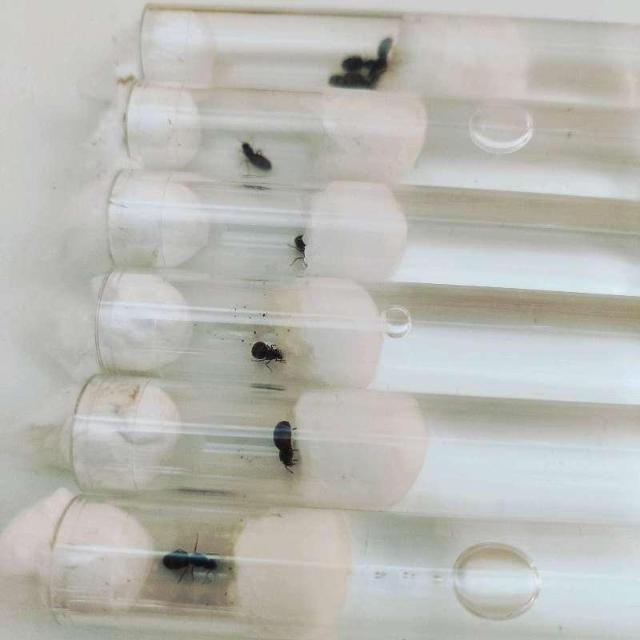Lasius: (240, 320, 290, 378), (162, 528, 220, 578), (235, 128, 283, 186), (264, 409, 304, 473), (321, 66, 381, 94), (373, 26, 397, 76), (286, 218, 308, 264), (337, 48, 379, 68)
